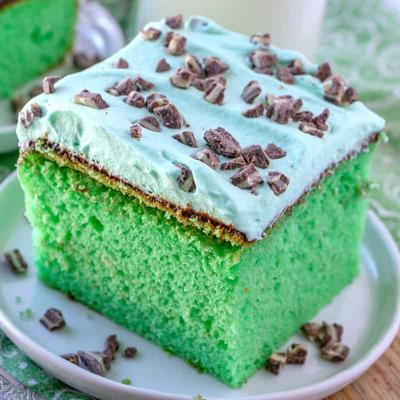cake: (17, 12, 378, 386)
